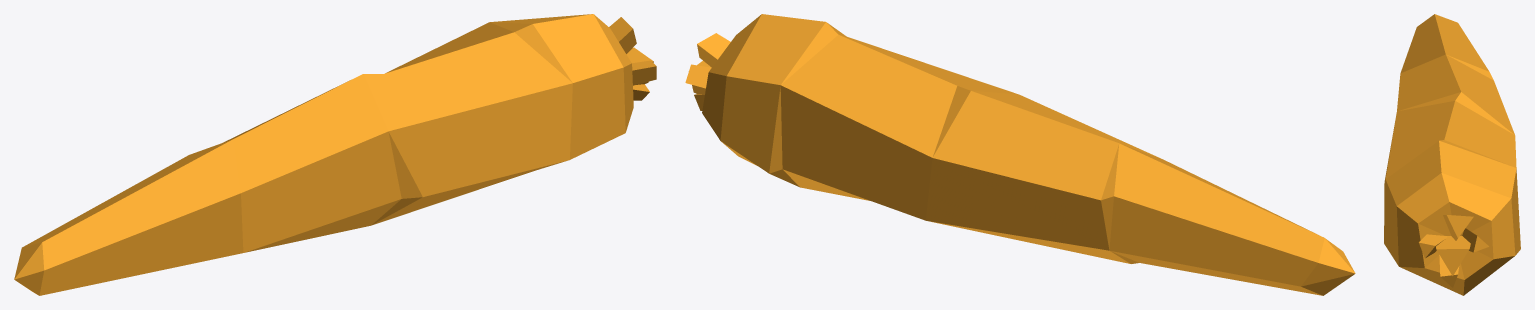
File: SM_Carrot_A.fbx
3 renders of one model, left to right at view 1: azimuth 30°, elevation 25°; view 2: azimuth 150°, elevation 25°; view 3: azimuth 270°, elevation 25°, orthographic. The views are drawn at different scales.
Parts seen in each view (by area): view 1: carrot-a; view 2: carrot-a; view 3: carrot-a.
Boxes of the visible parts, bbox=[...] form: carrot-a: bbox=[14, 14, 656, 295]; carrot-a: bbox=[685, 14, 1355, 295]; carrot-a: bbox=[1384, 14, 1520, 295].
Bounding box in the file's own units: 0.3576 × 0.0855 × 0.0748.
